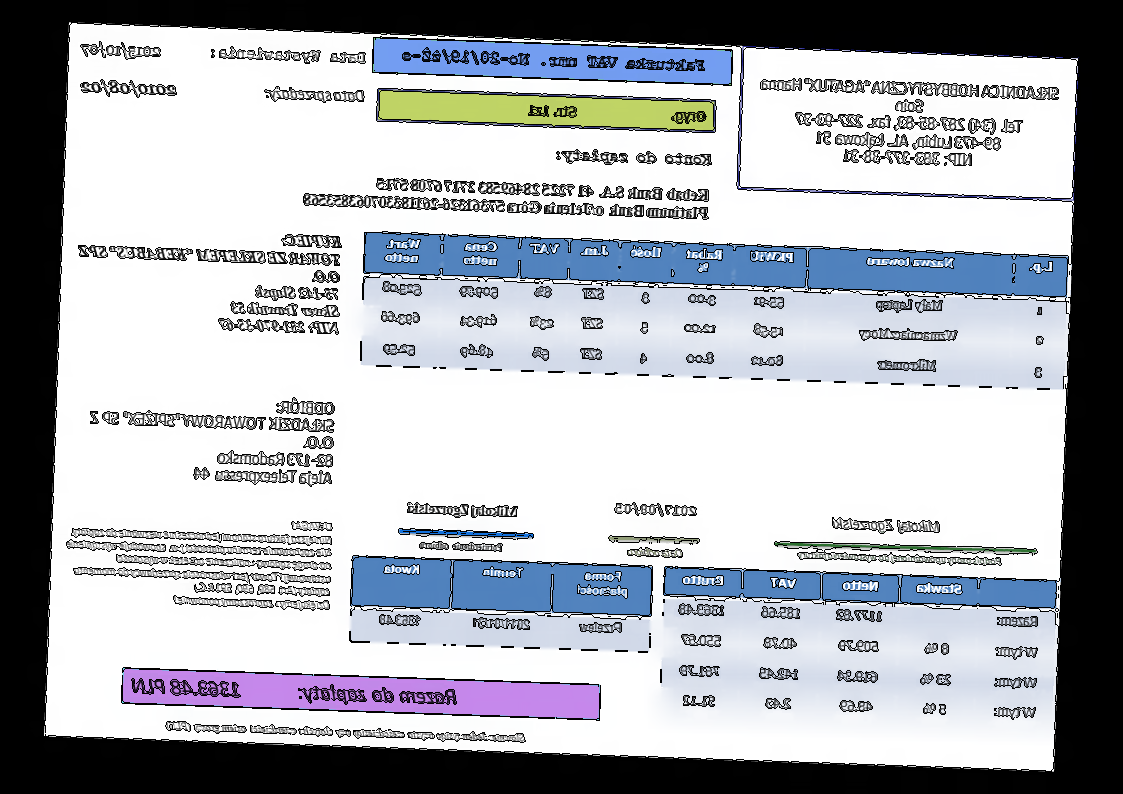Table: (359, 231, 1070, 392), (657, 565, 1060, 731), (348, 554, 655, 655)
TextBox: (68, 222, 345, 339), (756, 73, 1062, 175), (63, 511, 335, 613), (84, 388, 338, 491), (300, 172, 713, 222), (129, 674, 460, 710), (163, 717, 528, 746), (399, 45, 708, 75), (526, 100, 709, 127), (794, 547, 1004, 567), (209, 43, 368, 69), (552, 145, 716, 170), (405, 499, 522, 522), (827, 514, 942, 536), (79, 77, 179, 102), (263, 84, 367, 107), (614, 498, 701, 522), (79, 39, 164, 62), (418, 538, 506, 554), (624, 544, 686, 561)
